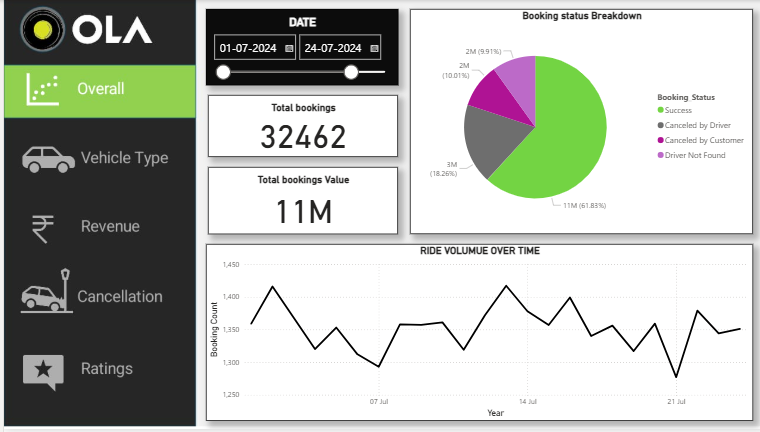

The page's visual inventory and layout, read from the dashboard file:
{"tool":"powerbi","page":{"name":"overall","canvas":[1280,720],"ordinal":0},"visuals":[{"type":"actionButton","box":[0,200.2,321.1,128.2],"z":0},{"type":"actionButton","box":[0,328.3,321.1,128.2],"z":1000},{"type":"actionButton","box":[0,443.5,321.1,128.2],"z":2000},{"type":"actionButton","box":[0,591.8,321.1,128.2],"z":3000},{"type":"lineChart","title":"RIDE VOLUMUE OVER TIME","fields":{"Y":["CountNonNull(July.Booking_ID)"],"Category":["July.Date.Variation.Date Hierarchy.Year","July.Date.Variation.Date Hierarchy.Quarter","July.Date.Variation.Date Hierarchy.Month","July.Date.Variation.Date Hierarchy.Day"]},"box":[339.3,409.9,918.8,297.3],"z":4000},{"type":"pieChart","title":"Booking status Breakdown","fields":{"Category":["July.Booking_Status"],"Y":["Sum(July.Booking_Value)"]},"box":[682,15.1,576.2,378],"z":5000},{"type":"slicer","title":"DATE","fields":{"Values":["July.Date"]},"box":[339.3,15.1,322.5,127.7],"z":6000},{"type":"card","title":"Total bookings ","fields":{"Values":["Count(July.Booking_ID)"]},"box":[342.7,159.6,319.2,104.1],"z":7000},{"type":"card","title":"Total bookings Value","fields":{"Values":["Sum(July.Booking_Value)"]},"box":[342.7,280.5,319.2,112.5],"z":8000}]}

Visuals, with their boxes in screenshot pixels (x1, y1, x2, y2), scaled from the page's 1280x720 canvas onto the 760x432 screenshot:
actionButton: {"left": 0, "top": 120, "right": 191, "bottom": 197}
actionButton: {"left": 0, "top": 197, "right": 191, "bottom": 274}
actionButton: {"left": 0, "top": 266, "right": 191, "bottom": 343}
actionButton: {"left": 0, "top": 355, "right": 191, "bottom": 431}
"RIDE VOLUMUE OVER TIME" lineChart: {"left": 201, "top": 246, "right": 747, "bottom": 424}
"Booking status Breakdown" pieChart: {"left": 405, "top": 9, "right": 747, "bottom": 236}
"DATE" slicer: {"left": 201, "top": 9, "right": 393, "bottom": 86}
"Total bookings " card: {"left": 203, "top": 96, "right": 393, "bottom": 158}
"Total bookings Value" card: {"left": 203, "top": 168, "right": 393, "bottom": 236}
